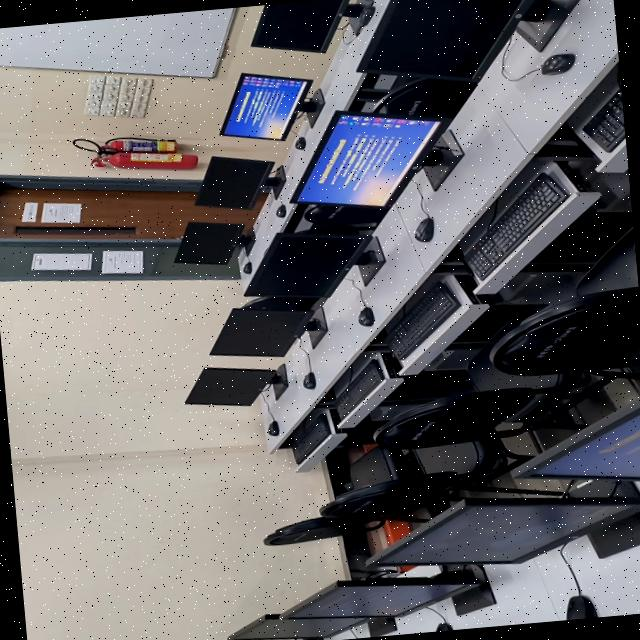Chair: (374, 352, 640, 448), (488, 227, 640, 374), (319, 437, 558, 519), (263, 510, 428, 544), (374, 77, 476, 117), (335, 445, 407, 497), (304, 202, 389, 223)
Fire Extinguisher: (91, 151, 197, 168), (103, 136, 177, 151)
Keyboard: (464, 172, 568, 278), (387, 281, 460, 359), (335, 358, 384, 419), (582, 83, 625, 151), (291, 411, 331, 463)
Monitor: (365, 480, 640, 565), (294, 111, 444, 205), (359, 0, 532, 80), (517, 397, 640, 480), (279, 570, 486, 618), (245, 227, 371, 297), (251, 0, 373, 52), (220, 72, 312, 139), (209, 306, 320, 355), (195, 155, 274, 208), (226, 613, 372, 639), (184, 366, 275, 404), (173, 220, 243, 263)
Mouse: (566, 594, 598, 620), (540, 52, 574, 74), (414, 216, 433, 241), (358, 305, 374, 324), (303, 371, 315, 388), (267, 419, 279, 435), (434, 621, 452, 631), (294, 135, 305, 148), (275, 203, 286, 216), (242, 260, 251, 273)
